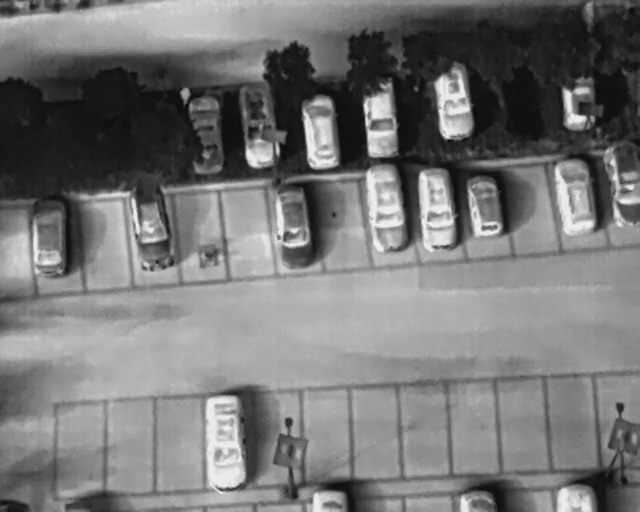Car: (126, 183, 177, 273), (362, 162, 411, 254), (234, 79, 283, 170), (549, 155, 602, 238), (205, 393, 246, 496), (271, 182, 318, 271), (415, 165, 459, 253), (430, 63, 476, 142), (184, 94, 227, 176), (298, 92, 341, 171), (603, 142, 639, 228), (361, 79, 399, 160), (32, 196, 68, 277), (558, 66, 601, 132), (464, 172, 506, 239)
